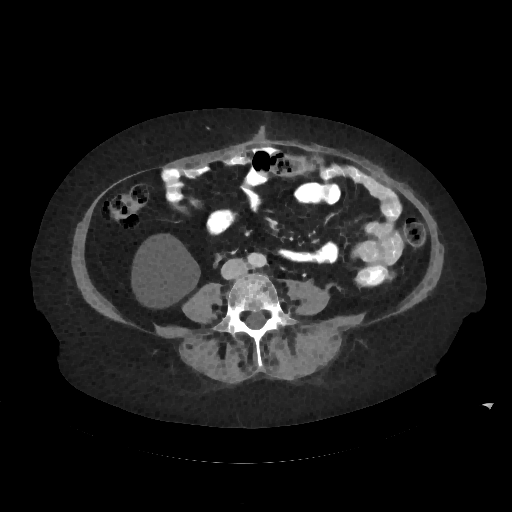Lesion: (125, 231, 202, 311)
